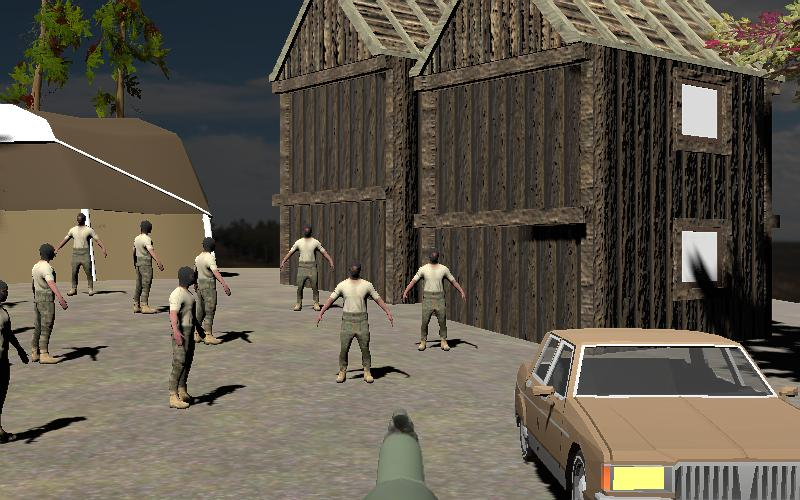House: (404, 1, 775, 348), (268, 0, 450, 303)
Human: (315, 257, 395, 386), (401, 249, 468, 353), (167, 263, 203, 409), (29, 240, 71, 365), (0, 278, 31, 447), (278, 223, 335, 314), (191, 239, 235, 349), (54, 214, 108, 298), (130, 218, 167, 313)
car: (511, 329, 800, 499)
